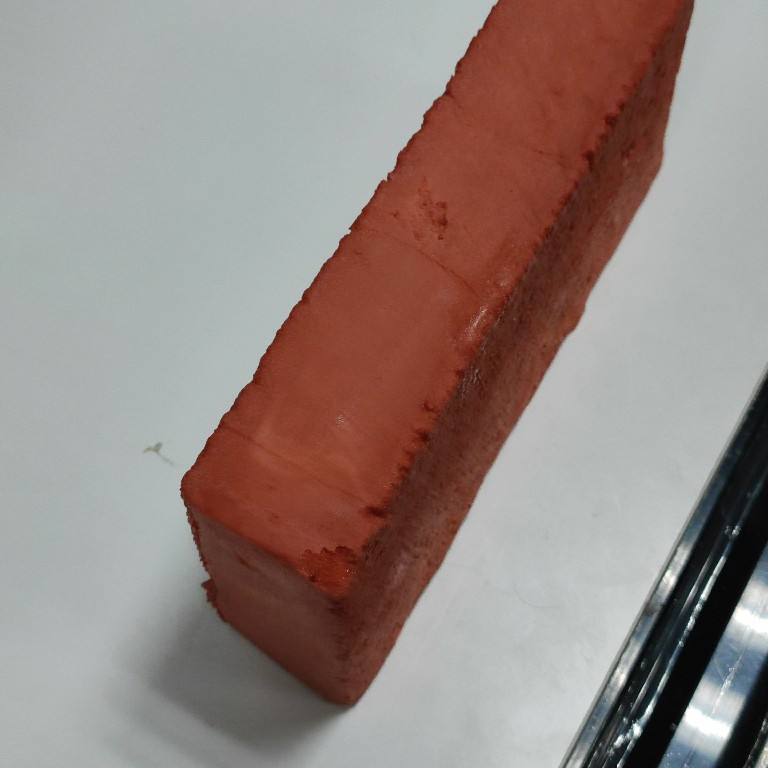brick: (178, 1, 703, 715)
